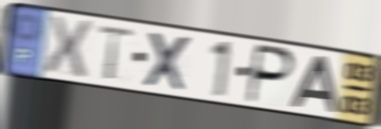1: (209, 40, 232, 99)
A: (288, 54, 341, 115)
P: (244, 42, 297, 106)
T: (95, 23, 138, 82)
X: (42, 13, 94, 80), (141, 29, 192, 94)
